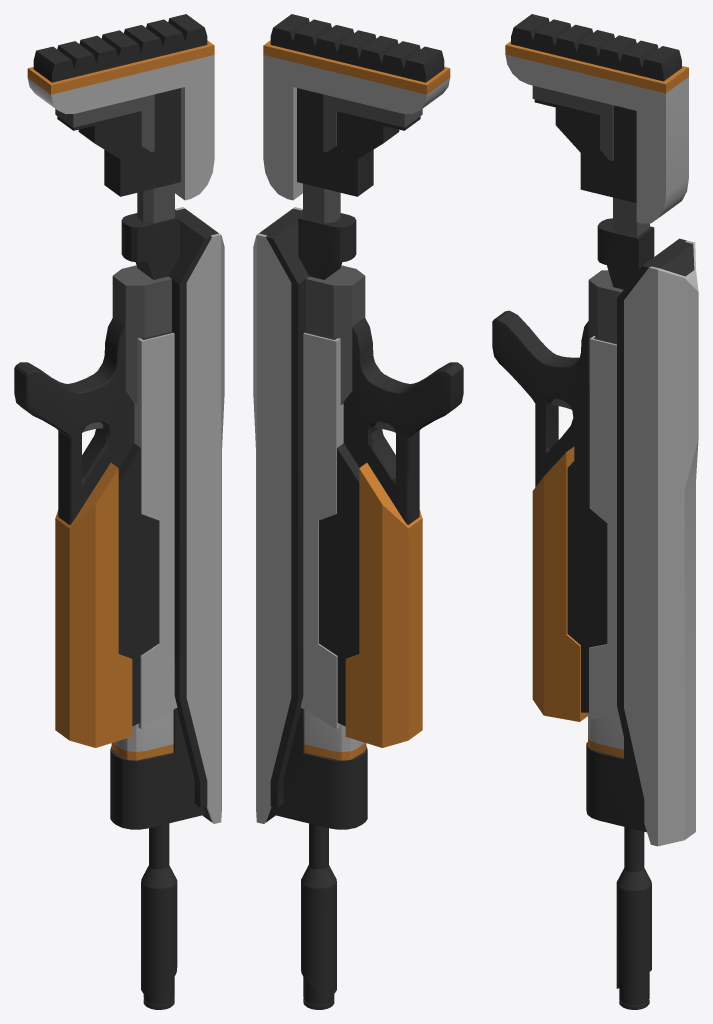
Rendered from qg-sniper-2-lod1.glb.
3 renders of one model, left to right at view 1: azimuth 30°, elevation 25°; view 2: azimuth 150°, elevation 25°; view 3: azimuth 330°, elevation 25°, orthographic.
Parts seen in each view (by area): view 1: WeaponMesh_qg-sniper-2_Sniper_2; view 2: WeaponMesh_qg-sniper-2_Sniper_2; view 3: WeaponMesh_qg-sniper-2_Sniper_2.
Part boxes in pixels (bbox=[...]): WeaponMesh_qg-sniper-2_Sniper_2: bbox=[14, 14, 224, 1009]; WeaponMesh_qg-sniper-2_Sniper_2: bbox=[253, 14, 463, 1009]; WeaponMesh_qg-sniper-2_Sniper_2: bbox=[492, 14, 698, 1009].
Size of the model in its own units: 0.3117 by 1.42 by 0.1007.
